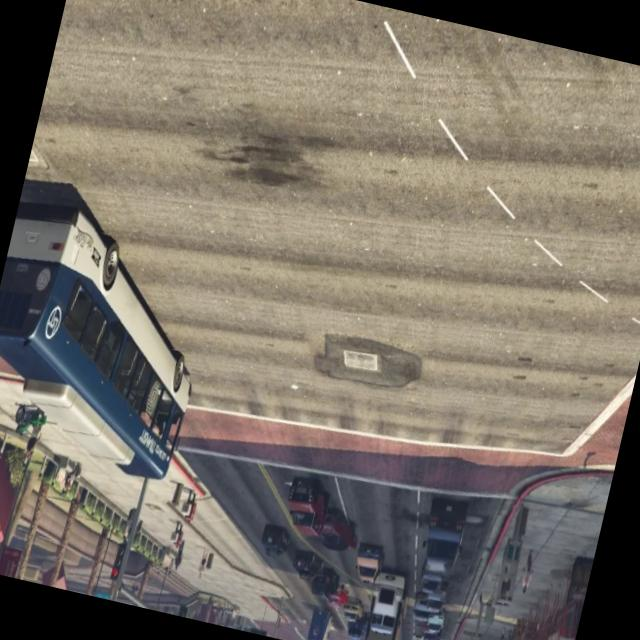Red-Signal: (106, 530, 130, 587), (174, 598, 191, 618)
